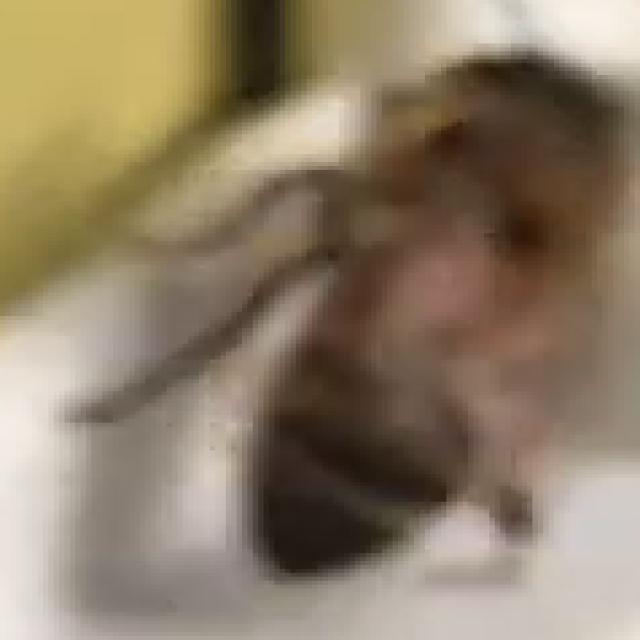honeybee: (264, 40, 584, 562)
